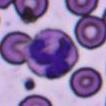E: (26, 28, 79, 79)
